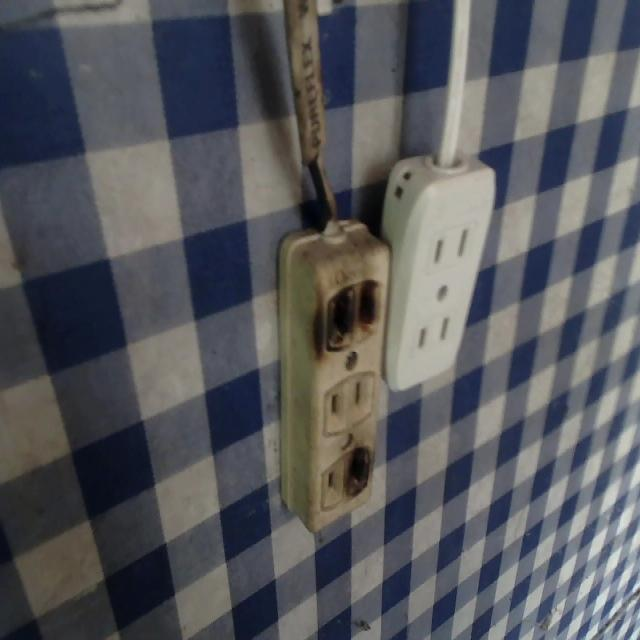-: (312, 278, 386, 350), (342, 439, 376, 505)
